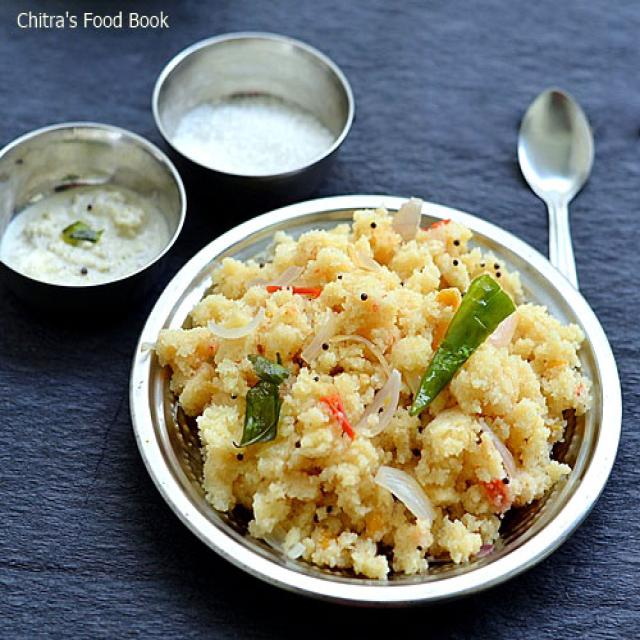UPMA: (148, 202, 591, 576)
